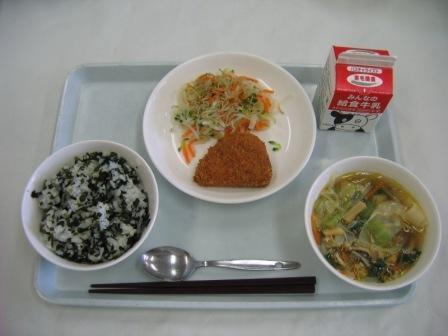Milk: (309, 43, 412, 139)
Rice: (15, 143, 162, 262)
Salad: (171, 68, 282, 132)
Soups: (307, 159, 440, 297)
cutlet: (193, 126, 275, 197)
